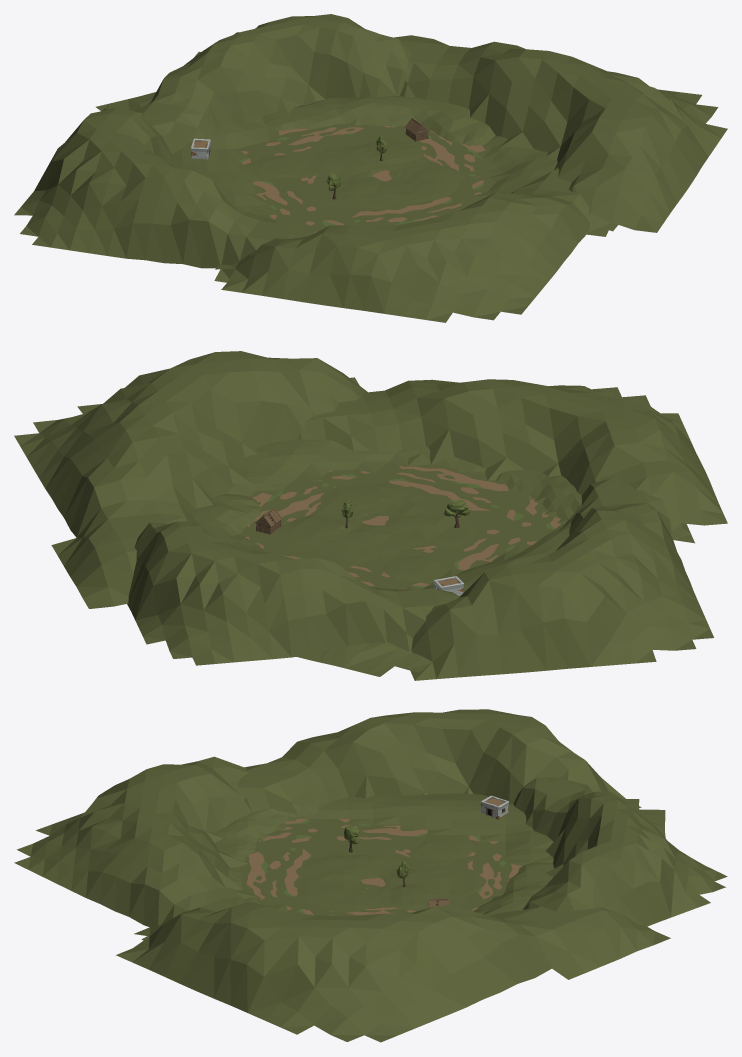
The picture shows the model from 3 angles, top to bottom: view 1: azimuth 30°, elevation 25°; view 2: azimuth 150°, elevation 25°; view 3: azimuth 270°, elevation 25°; orthographic projection. The views are drawn at different scales.
Parts seen in each view (by area): view 1: SM_Env_GroundMounds_04.006, SM_Env_GroundMounds_04.005, SM_Env_GroundMounds_04.004, SM_Env_GroundMounds_04.007, SM_Env_GroundMounds_06, SM_Env_GroundMounds_04, SM_Env_GroundMounds_04.003, SM_Env_GroundMounds_04.001, SM_Env_FloorTile_04.002, SM_Env_FloorTile_04, SM_Env_FloorTile_04.003, SM_Env_FloorTile_04.001 (+3 smaller); view 2: SM_Env_GroundMounds_04.006, SM_Env_GroundMounds_04.004, SM_Env_GroundMounds_04.005, SM_Env_GroundMounds_04.007, SM_Env_GroundMounds_06, SM_Env_GroundMounds_04.001, SM_Env_GroundMounds_04.003, SM_Env_FloorTile_04.002, SM_Env_GroundMounds_04.002, SM_Env_GroundMounds_04, SM_Env_FloorTile_04, SM_Env_FloorTile_04.001 (+4 smaller); view 3: SM_Env_GroundMounds_04.006, SM_Env_GroundMounds_04.005, SM_Env_GroundMounds_04.004, SM_Env_GroundMounds_04.007, SM_Env_GroundMounds_06, SM_Env_GroundMounds_04.003, SM_Env_FloorTile_04.002, SM_Env_GroundMounds_04.002, SM_Env_FloorTile_04.003, SM_Env_GroundMounds_04, SM_Env_FloorTile_04.001, SM_Env_FloorTile_03.001 (+1 smaller).
Boxes of the visible parts, left/top/right/bottom form: SM_Env_GroundMounds_04.006: left=394, top=35, right=727, bottom=236; SM_Env_GroundMounds_04.005: left=215, top=167, right=617, bottom=322; SM_Env_GroundMounds_04.004: left=14, top=104, right=313, bottom=282; SM_Env_GroundMounds_04.007: left=133, top=14, right=411, bottom=153; SM_Env_GroundMounds_06: left=244, top=134, right=463, bottom=209; SM_Env_GroundMounds_04: left=262, top=96, right=495, bottom=145; SM_Env_GroundMounds_04.003: left=96, top=92, right=279, bottom=222; SM_Env_GroundMounds_04.001: left=472, top=135, right=557, bottom=200; SM_Env_FloorTile_04.002: left=335, top=189, right=474, bottom=228; SM_Env_FloorTile_04: left=393, top=128, right=496, bottom=180; SM_Env_FloorTile_04.003: left=250, top=123, right=380, bottom=157; SM_Env_FloorTile_04.001: left=253, top=178, right=330, bottom=223; SM_Env_GroundMounds_04.006: left=14, top=351, right=367, bottom=608; SM_Env_GroundMounds_04.004: left=410, top=478, right=713, bottom=680; SM_Env_GroundMounds_04.005: left=298, top=379, right=727, bottom=538; SM_Env_GroundMounds_04.007: left=127, top=521, right=459, bottom=665; SM_Env_GroundMounds_06: left=275, top=483, right=477, bottom=583; SM_Env_GroundMounds_04.001: left=227, top=439, right=486, bottom=496; SM_Env_GroundMounds_04.003: left=296, top=523, right=567, bottom=676; SM_Env_FloorTile_04.002: left=367, top=463, right=520, bottom=521; SM_Env_GroundMounds_04.002: left=496, top=469, right=581, bottom=536; SM_Env_GroundMounds_04: left=194, top=494, right=266, bottom=552; SM_Env_FloorTile_04: left=243, top=478, right=344, bottom=539; SM_Env_FloorTile_04.001: left=436, top=522, right=544, bottom=570; SM_Env_GroundMounds_04.006: left=116, top=902, right=670, bottom=1042; SM_Env_GroundMounds_04.005: left=14, top=756, right=257, bottom=940; SM_Env_GroundMounds_04.004: left=237, top=709, right=641, bottom=815; SM_Env_GroundMounds_04.007: left=513, top=776, right=727, bottom=926; SM_Env_GroundMounds_06: left=295, top=833, right=486, bottom=912; SM_Env_GroundMounds_04.003: left=294, top=793, right=665, bottom=866; SM_Env_FloorTile_04.002: left=240, top=846, right=327, bottom=902; SM_Env_GroundMounds_04.002: left=215, top=801, right=333, bottom=860; SM_Env_FloorTile_04.003: left=455, top=847, right=522, bottom=902; SM_Env_GroundMounds_04: left=473, top=862, right=553, bottom=915; SM_Env_FloorTile_04.001: left=326, top=819, right=427, bottom=844; SM_Env_FloorTile_03.001: left=256, top=819, right=326, bottom=846.
Bounding box in the file's own units: 230 × 21.98 × 215.
Materials: 22 (22 with a texture image).
